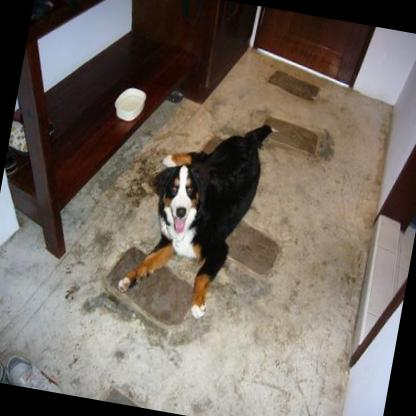Bernese_mountain_dog: (110, 100, 282, 329)
